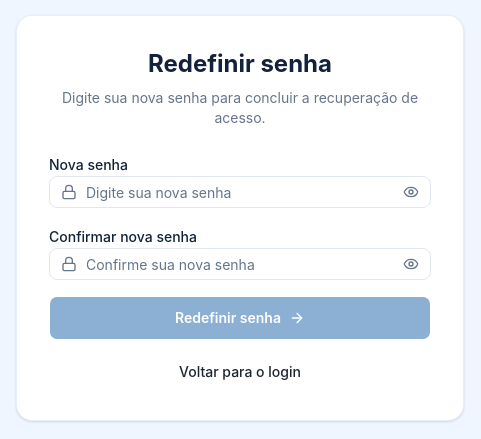
PasswordReset › mostra tela de sucesso após redefinir senha
Type "12345678" into the password field with placeholder "Digite sua nova senha" at (240, 192), box top-left (49, 176), bottom-right (431, 208)
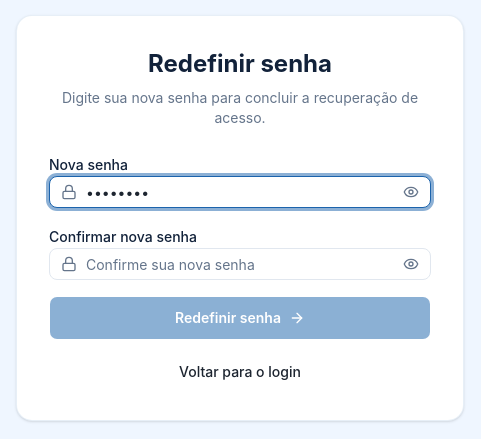
Type "12345678" into the password field with placeholder "Confirme sua nova senha" at (240, 264), box top-left (49, 248), bottom-right (431, 280)
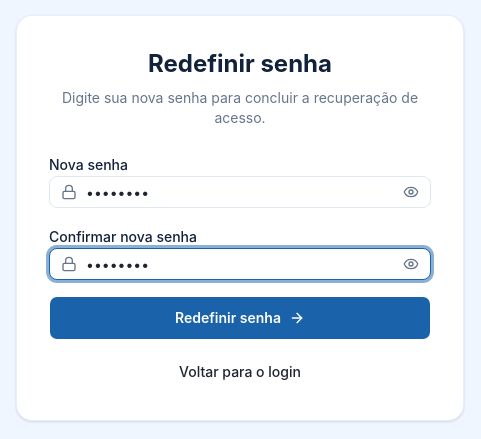
Click the button "Redefinir senha" at (240, 318), box top-left (49, 296), bottom-right (431, 340)
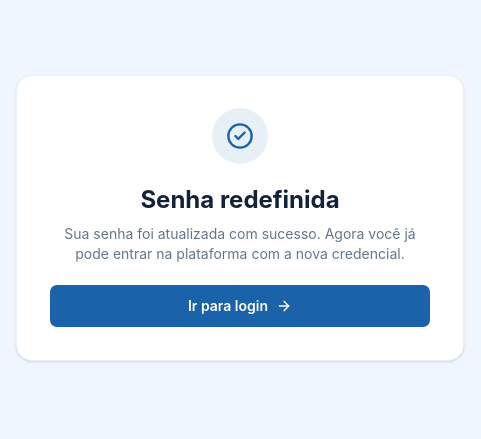
Expected: the heading "Senha redefinida" is shown, top-left (140, 185), bottom-right (340, 214)
